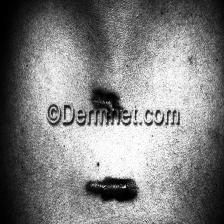Benign Marking or Mole: (85, 176, 140, 205), (91, 90, 121, 115)
